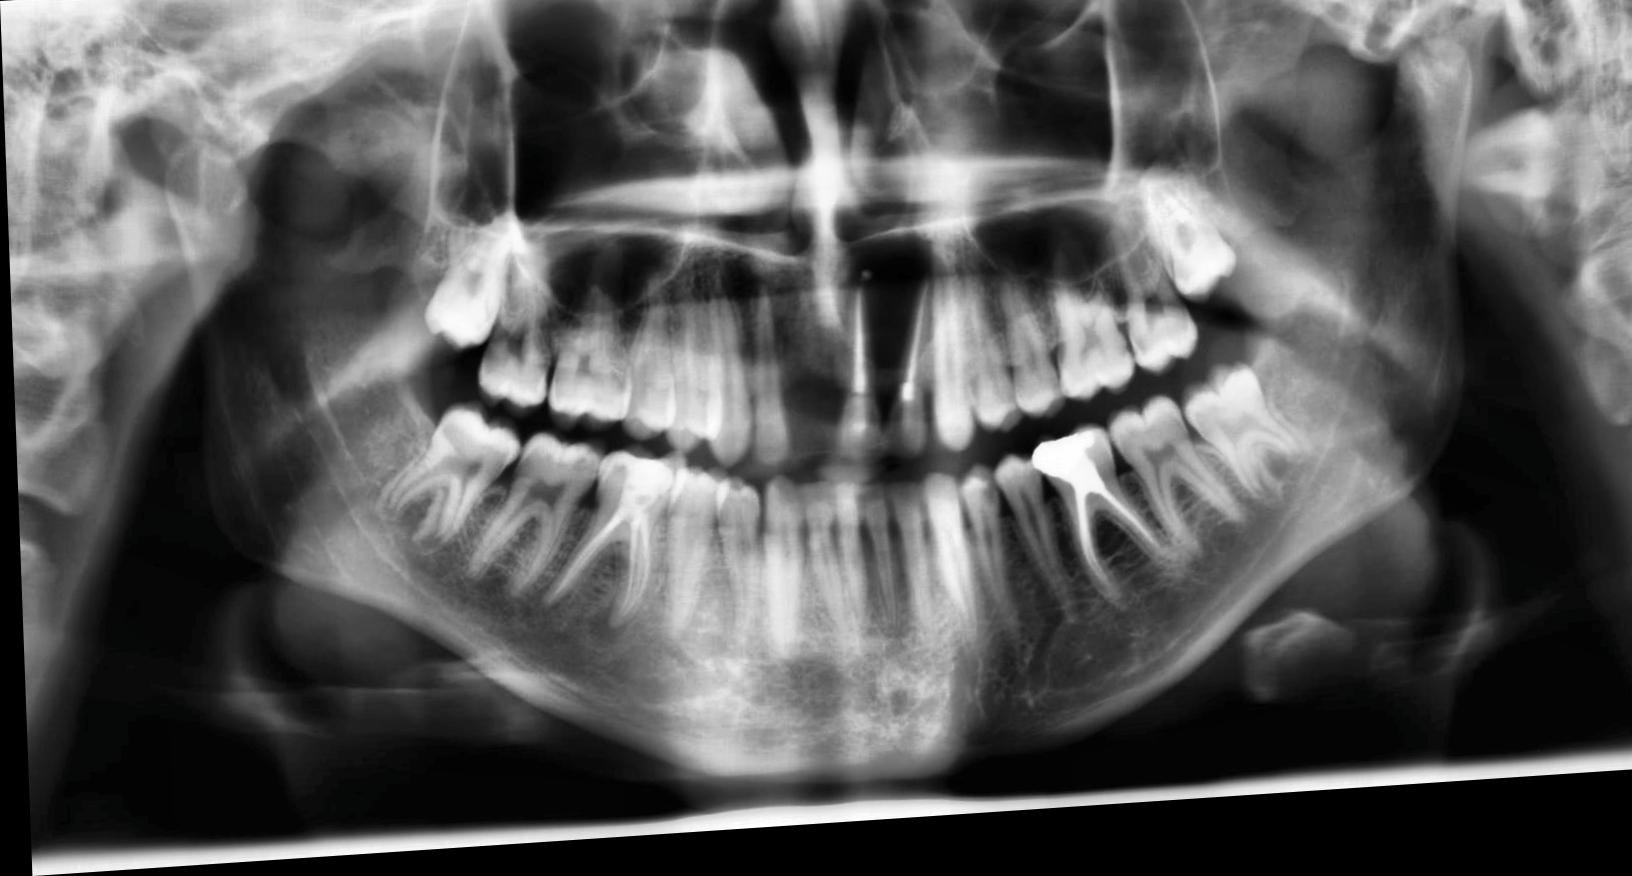radicular: (825, 235, 956, 393)
